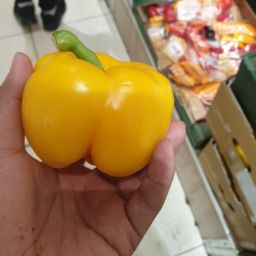Bell pepper: (18, 24, 178, 189), (32, 44, 149, 158), (60, 68, 149, 181)
